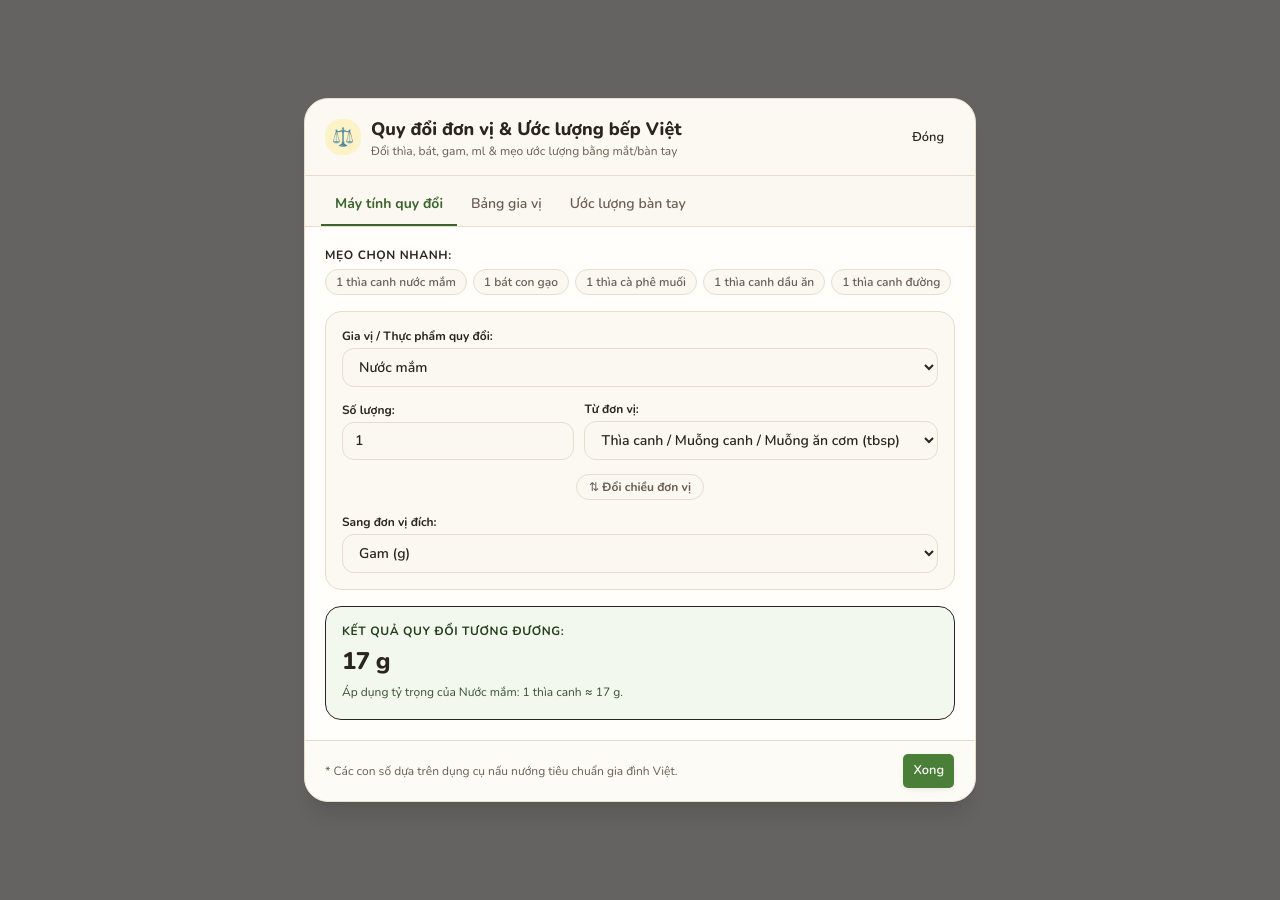
Test case: KitchenMeasurementModal › calculates conversion dynamically when user changes inputs
Select fish sauce
Select "Nước mắm" in the dropdown with test id "converter-ingredient-select" at (640, 368), box [342,348,938,387]
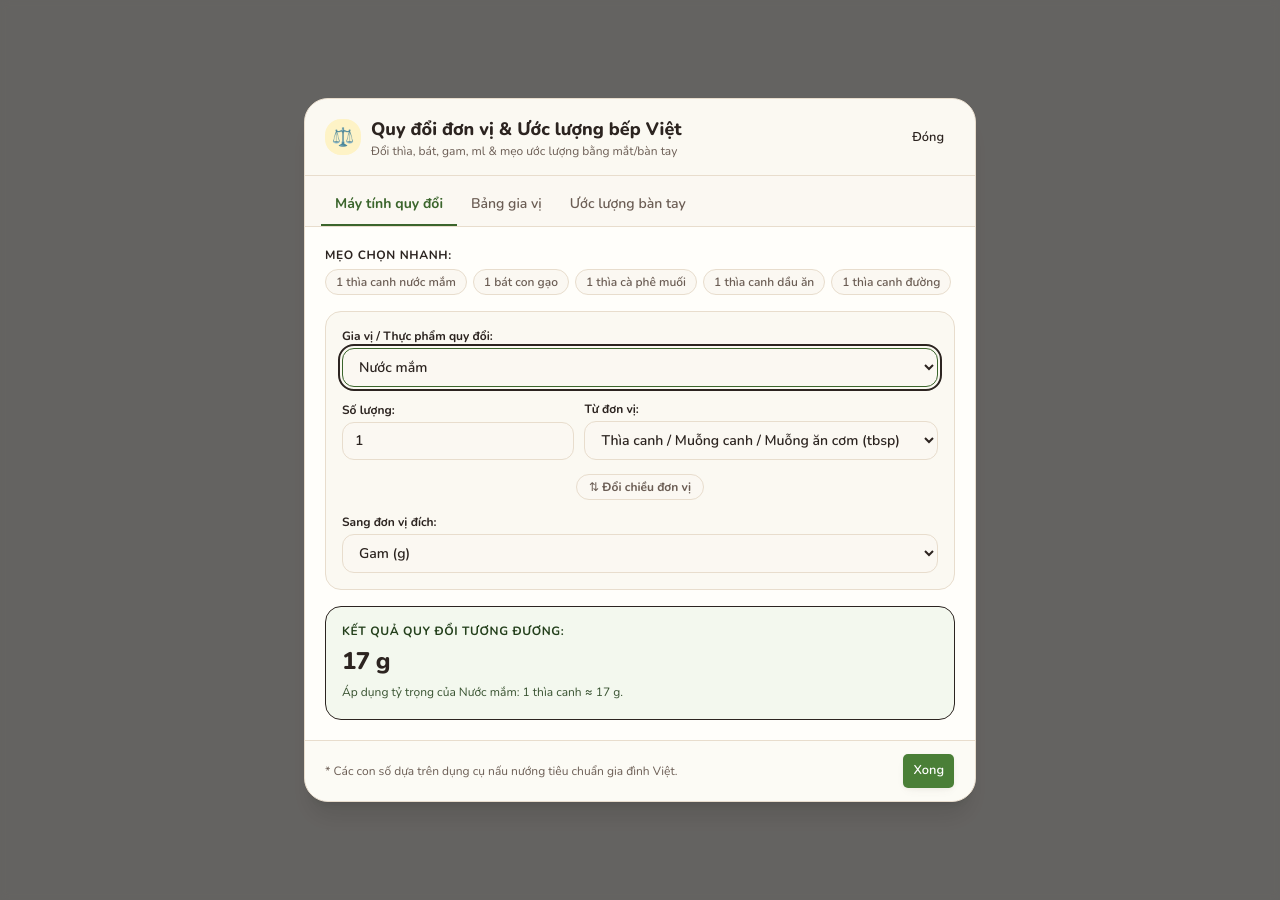
From unit: tbsp
Select "Thìa canh / Muỗng canh / Muỗng ăn cơm (tbsp)" in the dropdown with test id "converter-from-unit-select" at (761, 441), box [584,421,938,460]
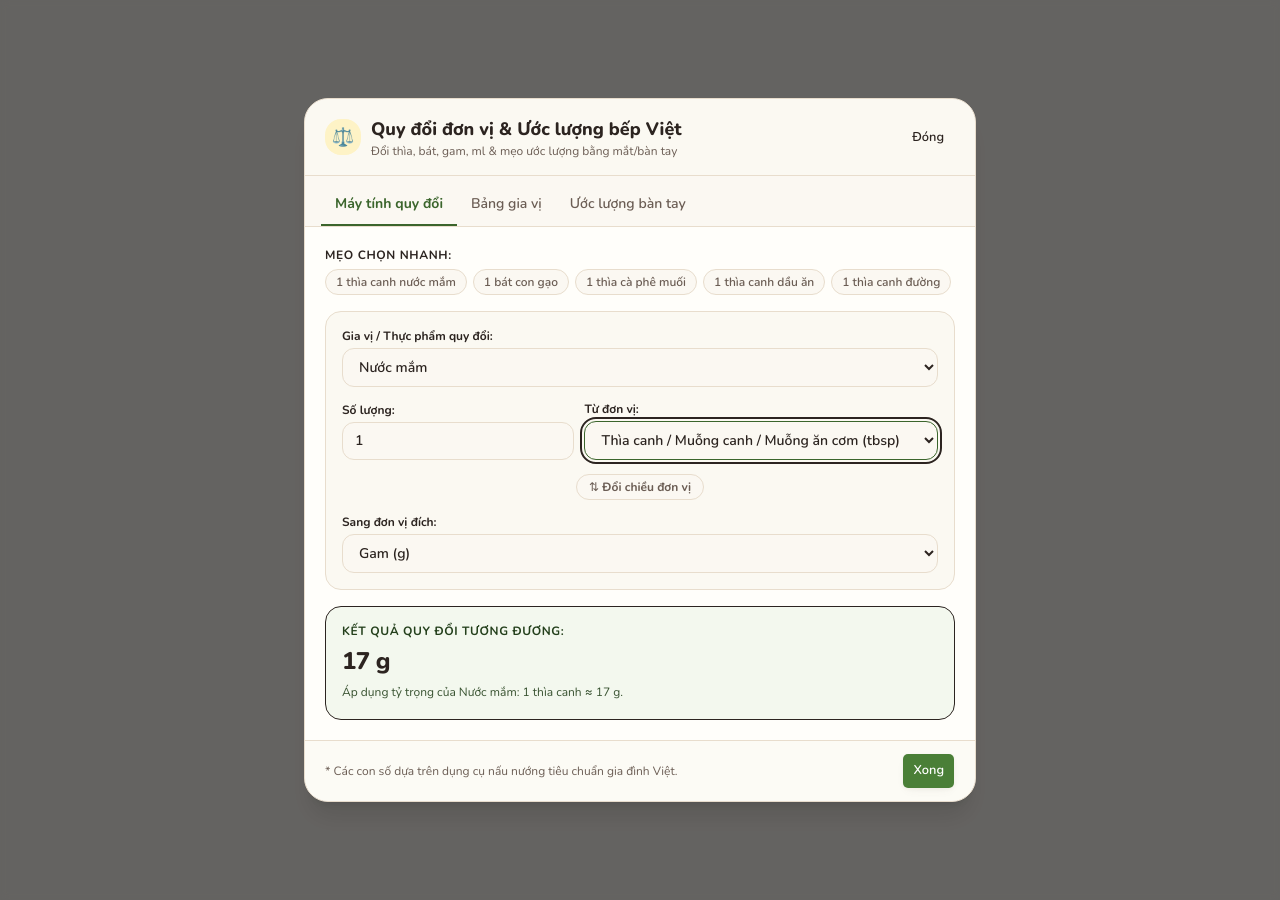
To unit: gram
Select "Gam (g)" in the dropdown with test id "converter-to-unit-select" at (640, 554), box [342,534,938,573]
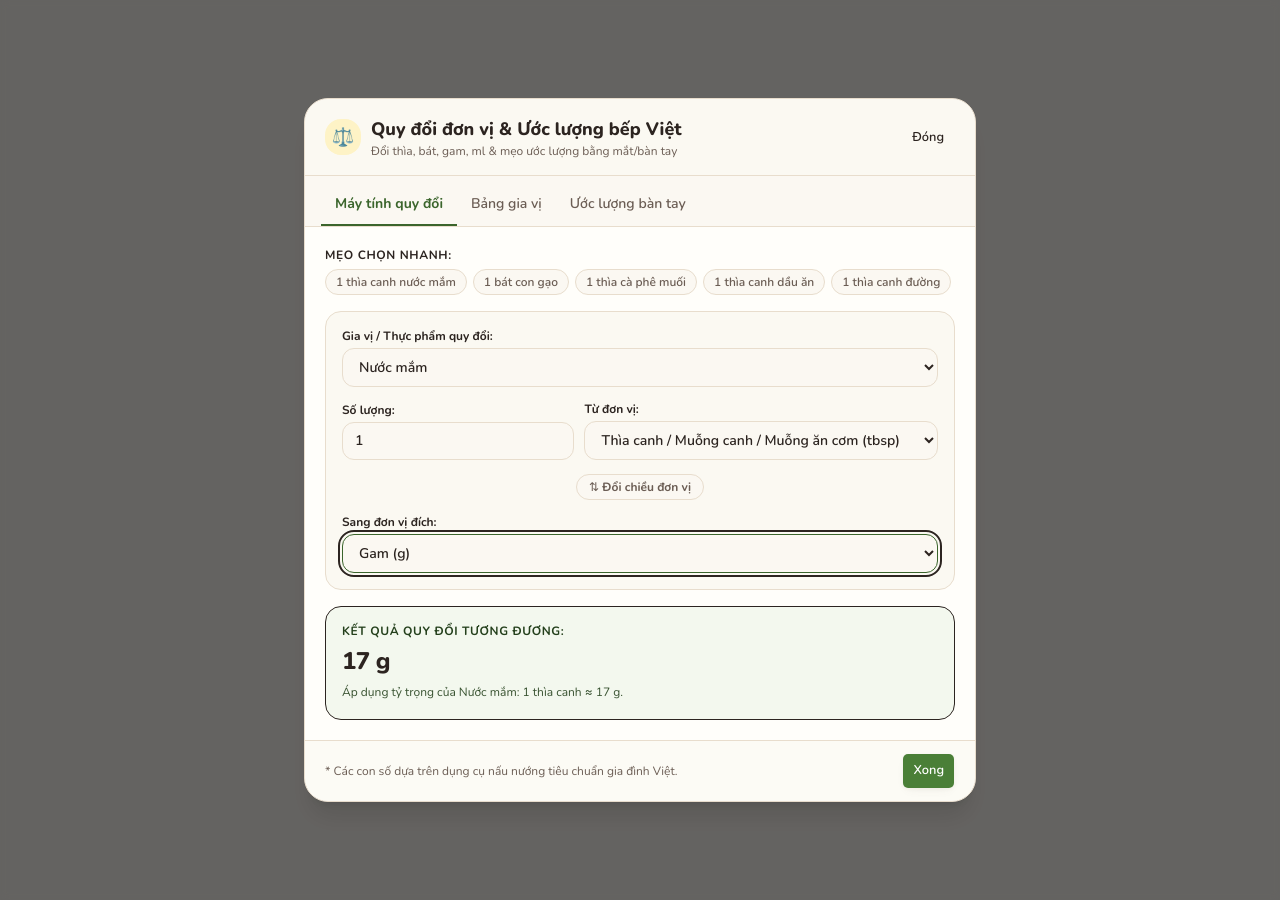
Input amount: 2
Replace the text in the number field with test id "converter-amount-input" with "2" at (458, 441), box [342,422,574,460]
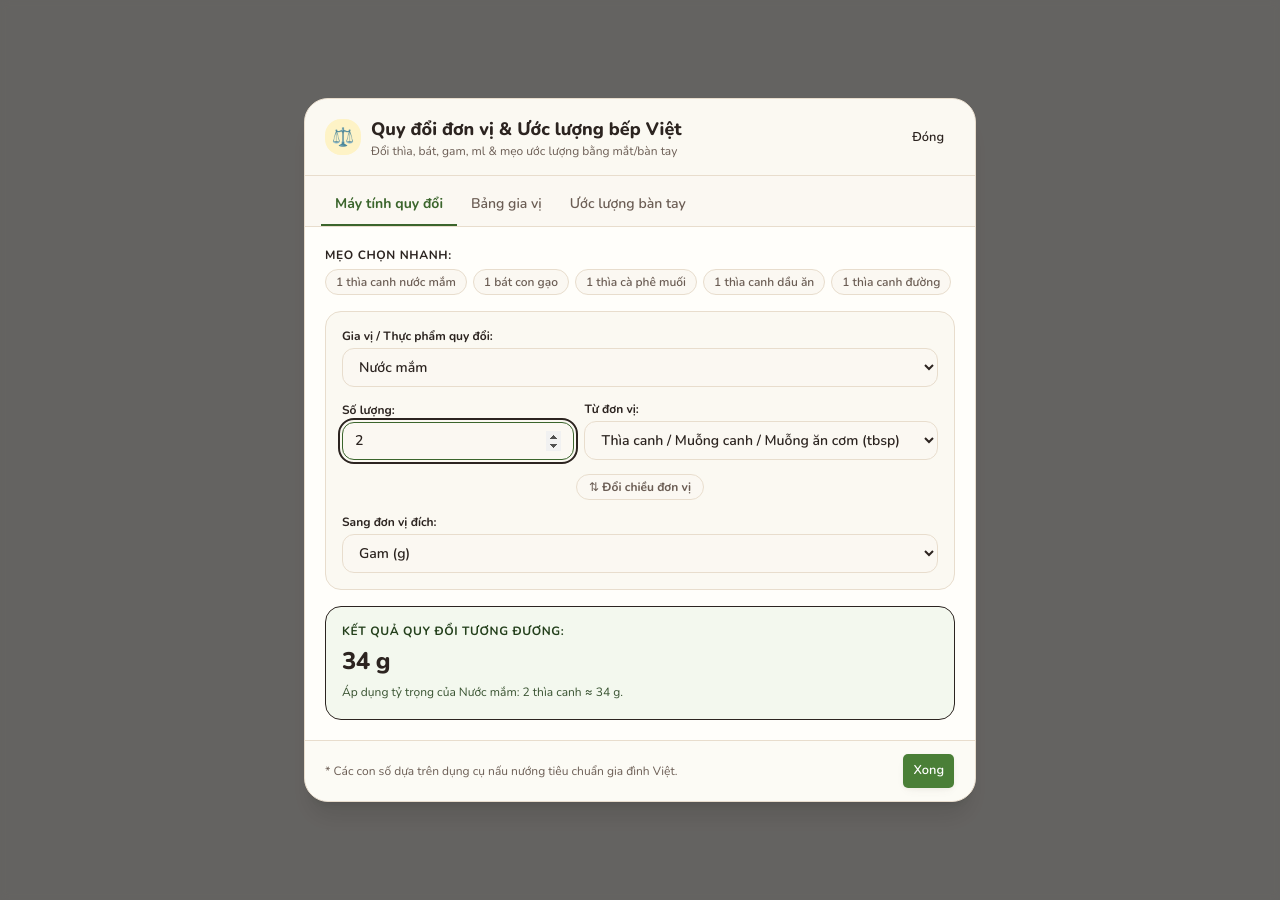
Now the text with test id "converter-result-display" reads "34 g", box [342,645,390,677]
